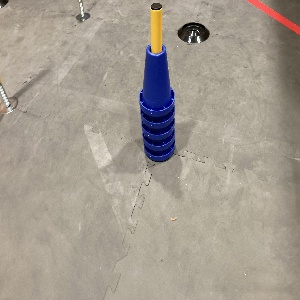Blue_5: (136, 42, 177, 162)
